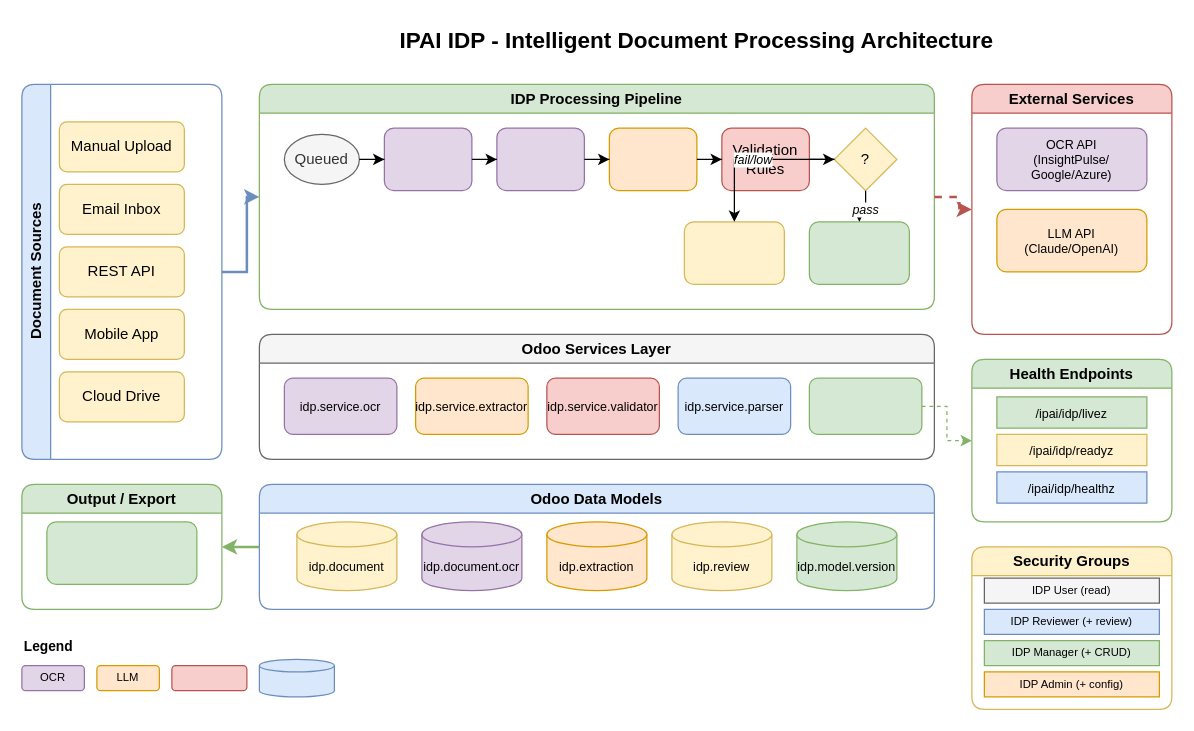
This 1194x731 diagram has some shape labels left out. The centre of each missing label's shape, as x and y in pixels:
"account.move (Vendor Bills)" goes at point (121, 552).
"Auto-Approved (conf ≥ 90%)" goes at point (858, 252).
"Data Store" goes at point (296, 677).
"Document Classification" goes at point (540, 159).
"idp.service.health" goes at point (865, 405).
"LLM Extraction" goes at point (652, 159).
"OCR Processing" goes at point (427, 159).
"Review Needed" goes at point (733, 252).
"Validation" goes at point (209, 677).
